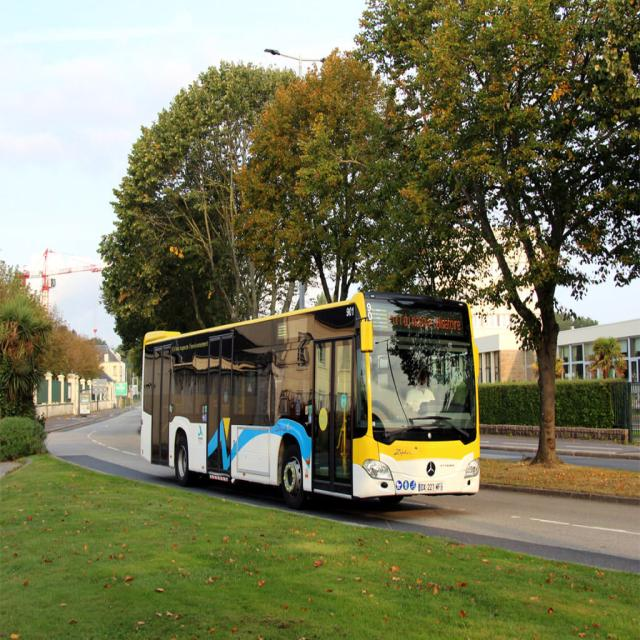Bus: (141, 292, 479, 507)
